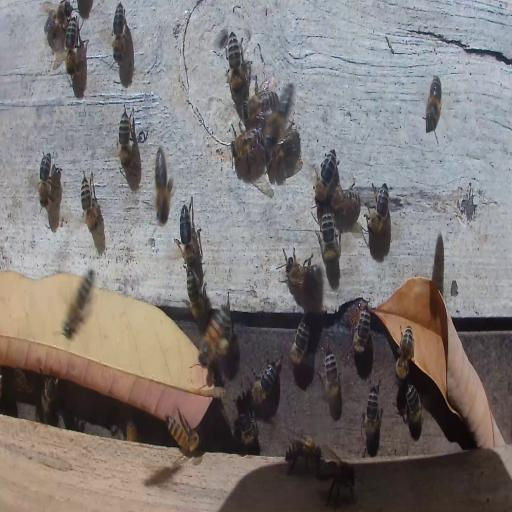bee: (61, 264, 97, 341), (198, 304, 232, 370), (249, 350, 283, 407), (152, 140, 174, 227), (264, 80, 292, 144), (283, 430, 321, 475), (282, 253, 318, 298), (243, 77, 278, 122), (320, 456, 358, 496), (366, 181, 390, 242), (266, 130, 299, 174), (320, 344, 342, 409), (230, 126, 262, 170), (317, 212, 340, 272), (80, 170, 101, 234), (362, 383, 384, 442), (164, 416, 200, 452), (314, 150, 338, 203), (226, 35, 246, 94), (329, 178, 359, 217), (176, 199, 195, 258), (351, 304, 373, 354), (424, 73, 442, 133), (43, 2, 72, 38), (405, 381, 424, 435), (395, 326, 414, 380), (290, 316, 310, 366), (187, 270, 205, 325), (118, 105, 132, 174), (238, 408, 260, 451), (39, 375, 59, 421), (111, 2, 126, 62), (0, 338, 32, 366), (38, 150, 52, 208), (64, 15, 77, 75), (126, 418, 138, 442), (110, 424, 124, 438)
